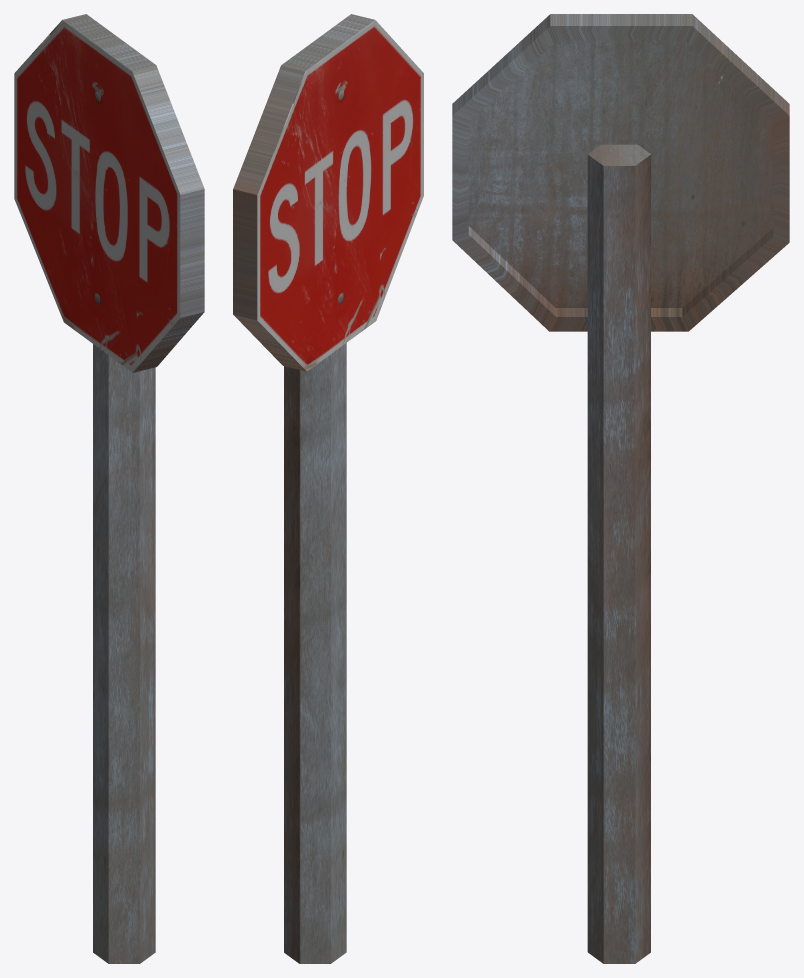
Rendered from panneau_stop.fbx.
3 renders of one model, left to right at view 1: azimuth 30°, elevation 25°; view 2: azimuth 150°, elevation 25°; view 3: azimuth 270°, elevation 25°, orthographic.
Parts seen in each view (by area): view 1: stop.001; view 2: stop.001; view 3: stop.001.
Boxes of the visible parts, x1,y1,x2,y2 form: stop.001: (14,14,204,963); stop.001: (233,14,423,963); stop.001: (452,14,789,963).
Size of the model in its own units: 1.21 by 21.23 by 7.01.
Materials: 2 (2 with a texture image).
